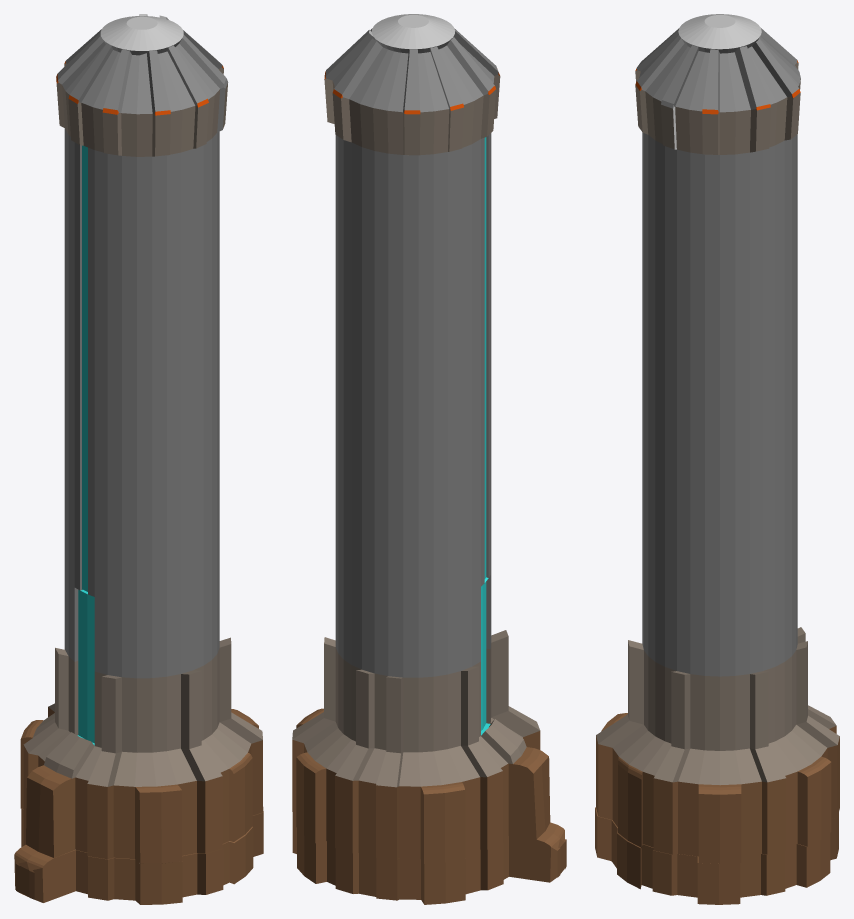
Rendered from portal5 1.fbx.
3 renders of one model, left to right at view 1: azimuth 30°, elevation 25°; view 2: azimuth 150°, elevation 25°; view 3: azimuth 270°, elevation 25°, orthographic.
Visible parts, largest first — view 1: Cylinder; view 2: Cylinder; view 3: Cylinder.
Boxes of the visible parts, left/top/right/bottom form: Cylinder: left=14, top=14, right=263, bottom=904; Cylinder: left=292, top=14, right=566, bottom=904; Cylinder: left=595, top=14, right=839, bottom=904.
Bounding box in the file's own units: 128 × 420 × 112.
